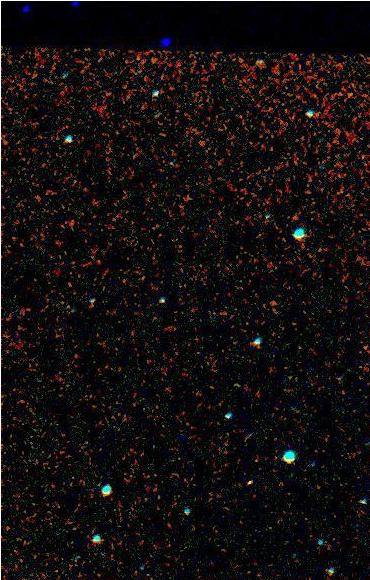star: (233, 465, 263, 495)
